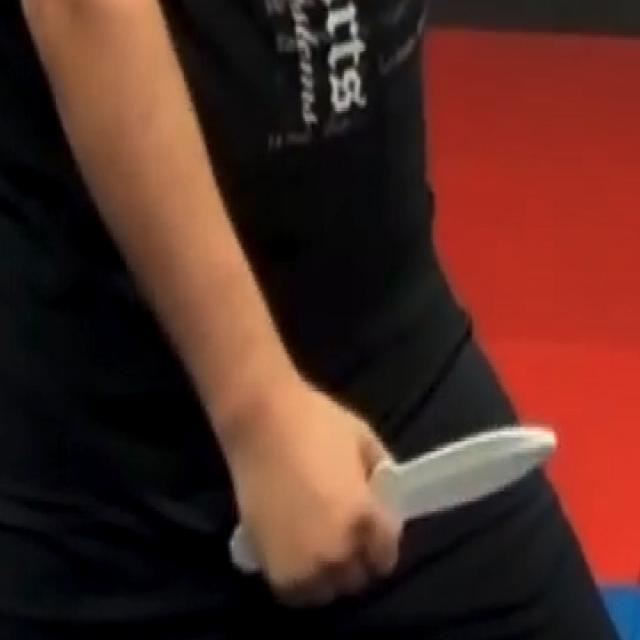suspicion: (16, 3, 566, 613), (395, 420, 560, 538), (228, 526, 263, 574)
